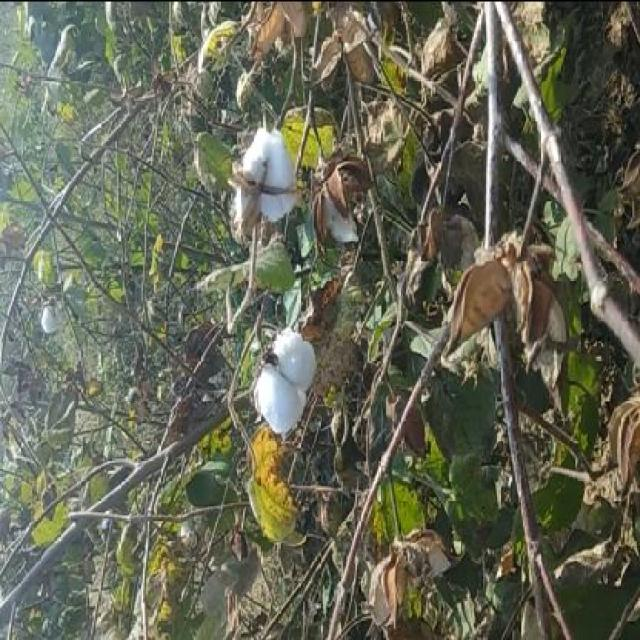cotton_ready: (222, 85, 321, 263), (253, 292, 344, 454)
